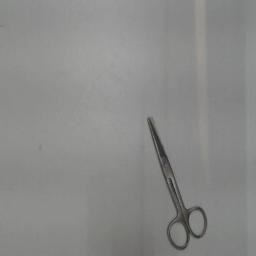Dressing Scissors: (143, 106, 213, 254)
